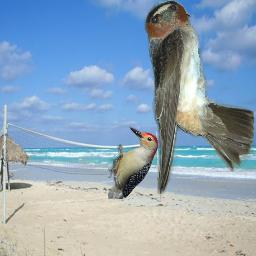Swallow: (144, 0, 254, 198)
Woodpecker: (108, 127, 158, 199)
